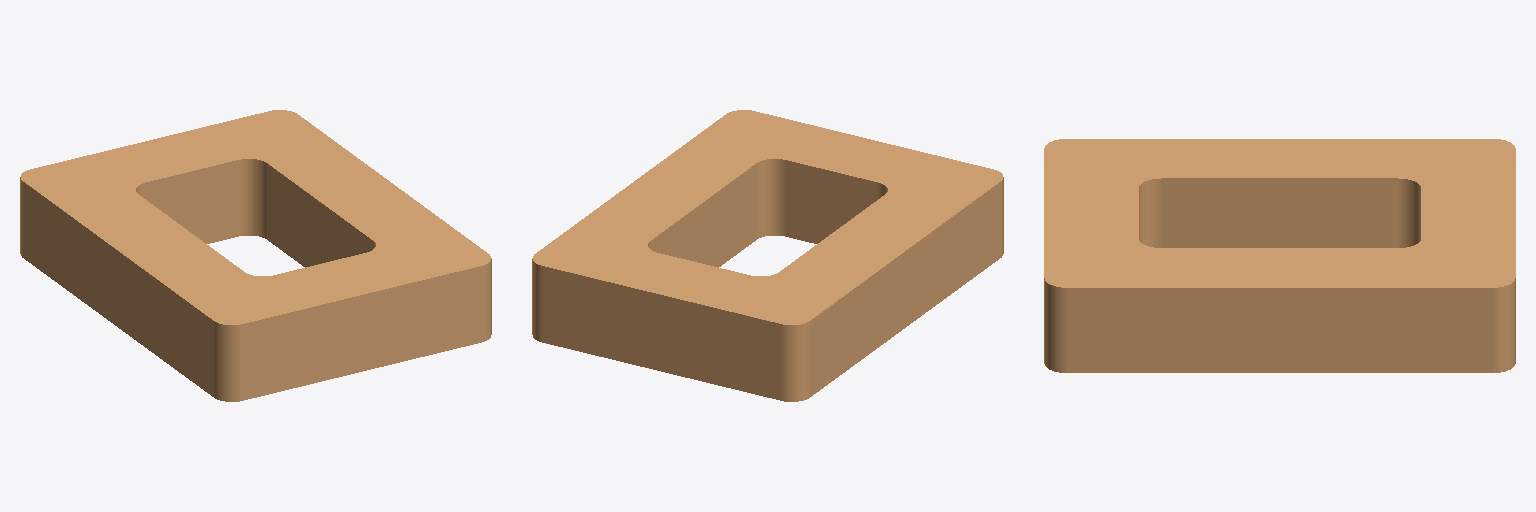
The robot description file, URDF, robot "brick_wp_large":
<?xml version="1.0"?>
<robot name="brick_wp_large">
    <link name="brick_wp_large_origin">
        <visual>
            <geometry>
                <mesh filename="package://process_visualiser/resources/meshes_resized/brick_wp_200x150mm.stl"
                      scale="1 1 1"/>
            </geometry>
            <material name="ABS" >
                <color rgba="0.9 0.7 0.5 1.0" />
            </material>
        </visual>
        <inertial>
            <origin xyz="0 0 1" rpy="0 0 0"/>
            <mass value="1"/>
            <inertia
                    ixx="1.0" ixy="0.0" ixz="0.0"
                    iyy="1.0" iyz="0.0"
                    izz="1.0"/>
        </inertial>

    </link>
    <link name="world"/>

    <joint name="fixed" type="fixed">
        <parent link="world"/>
        <child link="brick_wp_large_origin"/>
    </joint>

    <gazebo reference="brick_wp_large_origin">
        <material>Gazebo/Blue</material>
    </gazebo>

</robot>

--- Render facts (derived) ---
The picture shows the robot from 3 angles, left to right: view 1: azimuth 30°, elevation 25°; view 2: azimuth 150°, elevation 25°; view 3: azimuth 270°, elevation 25°; orthographic projection.
Model brick_wp_large with 2 links and 1 joints (1 fixed), rooted at world, posed every joint at zero.
Links seen in each view (by area): view 1: brick_wp_large_origin; view 2: brick_wp_large_origin; view 3: brick_wp_large_origin.
Boxes of the visible links, <box> form: brick_wp_large_origin: <box>20,110,491,401</box>; brick_wp_large_origin: <box>532,110,1003,401</box>; brick_wp_large_origin: <box>1044,139,1515,372</box>.
Bounding box of the posed robot: 0.15 × 0.2 × 0.04 m (x, y, z).
1 mesh visuals loaded from 1 distinct referenced files (1 binary STL).